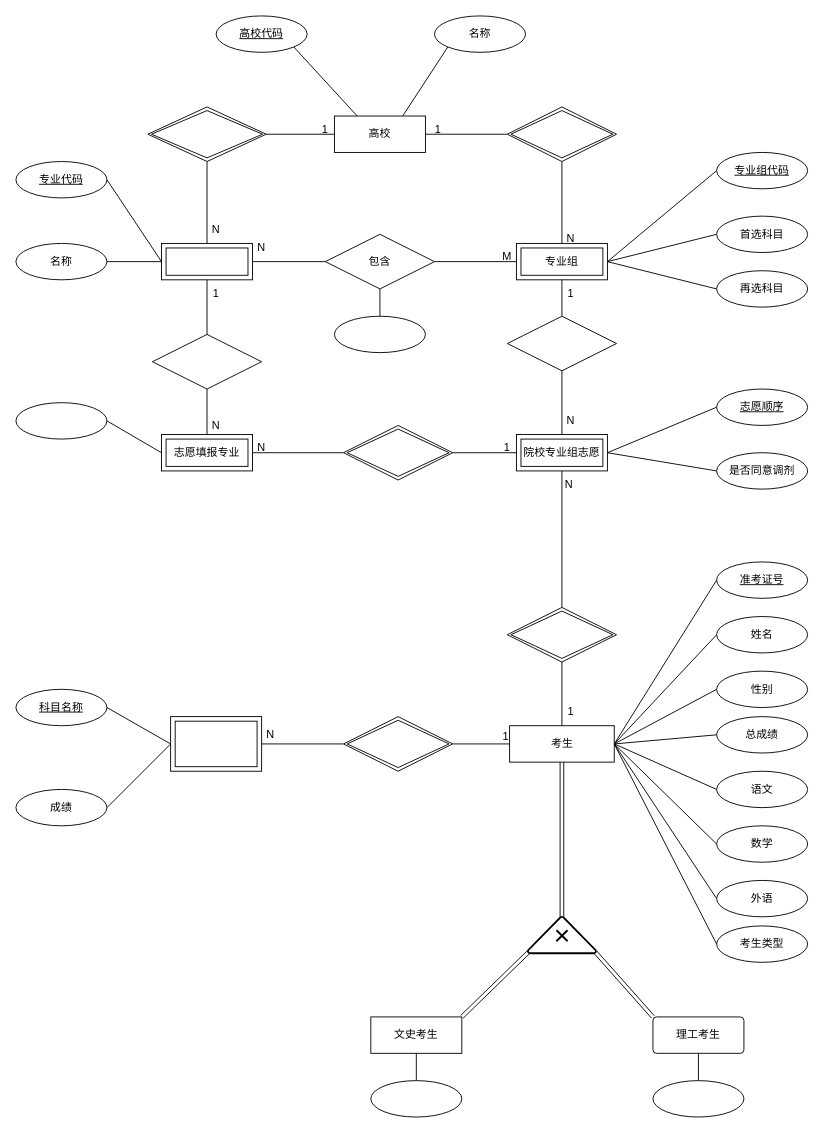
Image size: 824x1133. Some labels were removed from this diagram. The box of each missing label's shape, as (x1, y1, x2, y2) in pixels:
专业填报顺序: (15, 402, 107, 439)
内设: (343, 425, 453, 480)
再选科目成绩: (170, 716, 262, 771)
历史: (370, 1080, 462, 1117)
填报: (506, 607, 617, 662)
招生专业: (161, 243, 253, 280)
招生计划数: (334, 315, 425, 353)
拥有: (343, 716, 453, 771)
指向: (506, 315, 617, 371)
物理: (652, 1080, 744, 1117)
设置专业: (147, 106, 266, 162)
设置专业组: (506, 106, 617, 162)
选择: (152, 334, 262, 389)
